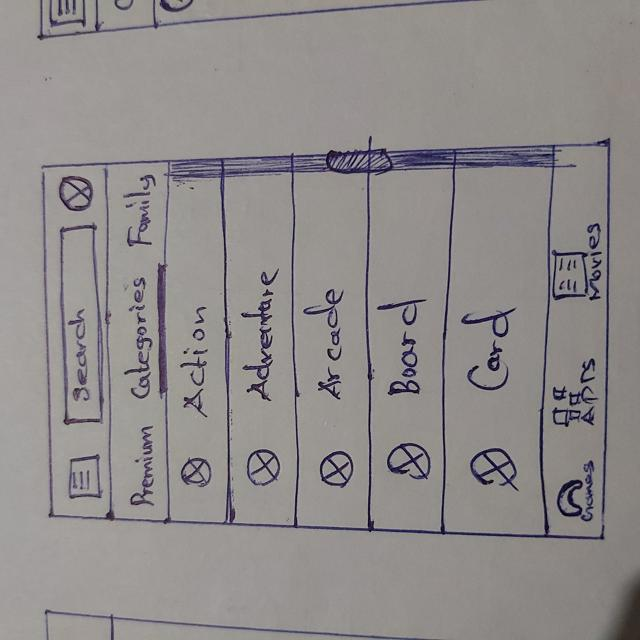AppBar: (39, 162, 113, 519)
BottomNavBar: (547, 142, 609, 540)
BottomNavItems: (549, 213, 609, 324), (543, 343, 608, 443), (541, 454, 605, 540)
DrawerToggleButton: (66, 454, 104, 499)
EditText: (58, 223, 102, 424)
Icon: (552, 248, 587, 301), (555, 478, 586, 520), (553, 386, 581, 424)
Layout: (452, 172, 542, 532), (221, 162, 298, 527), (295, 159, 369, 524), (370, 173, 443, 530), (169, 163, 228, 523)
ListView: (169, 179, 541, 524)
MainLayout: (40, 140, 609, 542)
RoundedImage: (469, 448, 518, 488), (387, 442, 432, 482), (57, 173, 97, 212), (319, 451, 356, 489), (246, 449, 281, 488), (182, 457, 213, 487)
ScrollBar: (170, 157, 555, 178)
Tab: (106, 160, 170, 522)
TabItem: (106, 271, 168, 401), (109, 407, 165, 518), (110, 164, 163, 254)
TextView: (464, 302, 516, 396), (248, 266, 279, 406), (385, 298, 424, 395), (316, 289, 348, 399), (181, 306, 208, 415), (587, 220, 604, 303), (581, 357, 599, 429), (582, 461, 597, 524)
VerticalListView: (170, 179, 541, 524)
